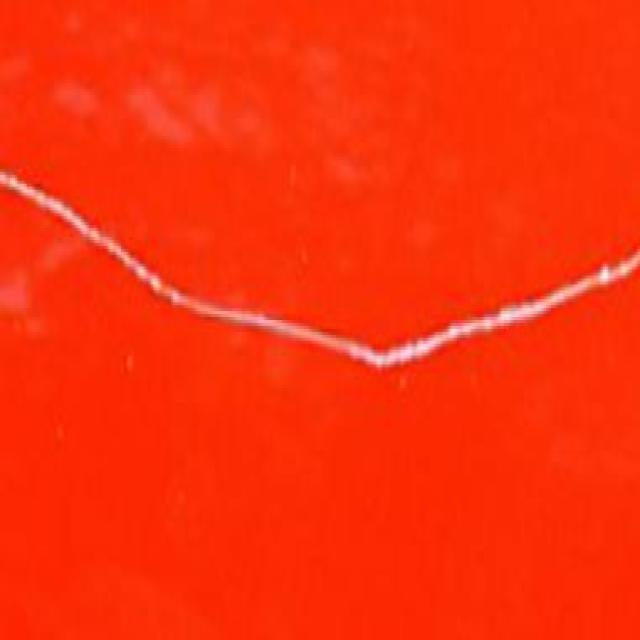scratch: (5, 152, 640, 384)
